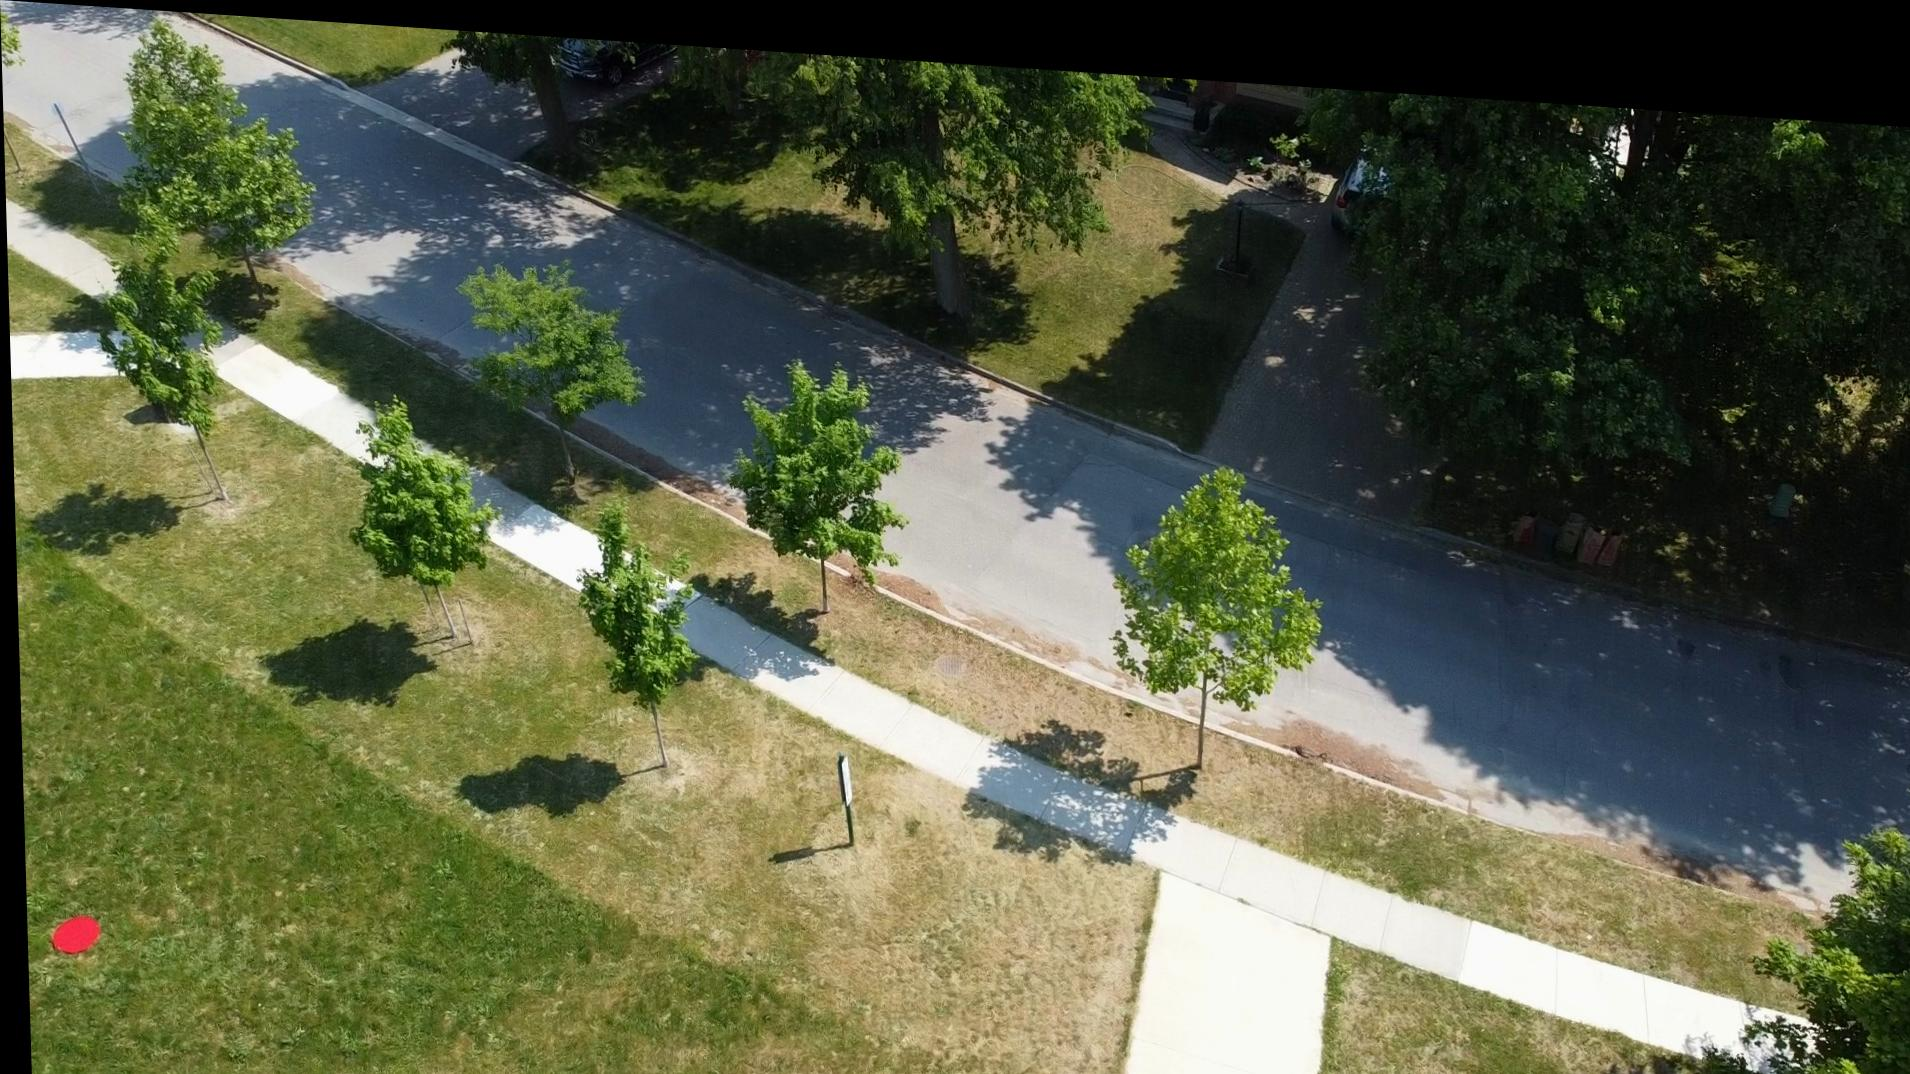Red: (45, 913, 96, 957)
